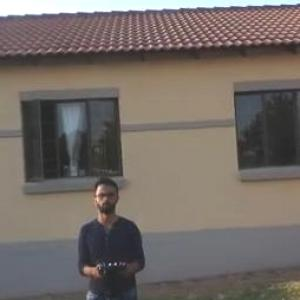follow: (70, 171, 149, 299)
